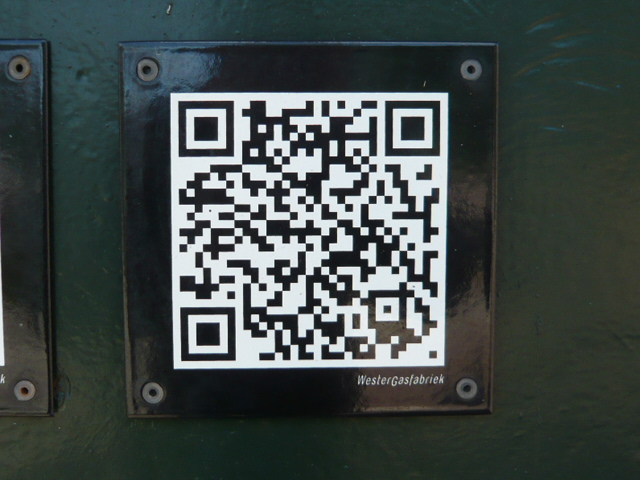QR-CODE: (178, 101, 439, 360)
